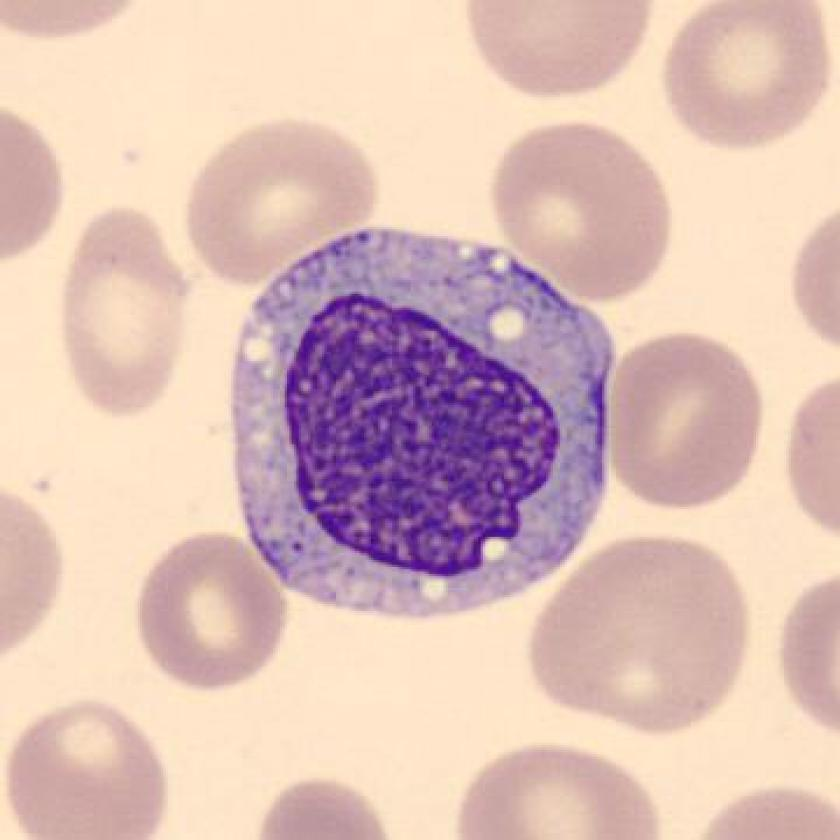monocyte: (209, 214, 657, 647)
